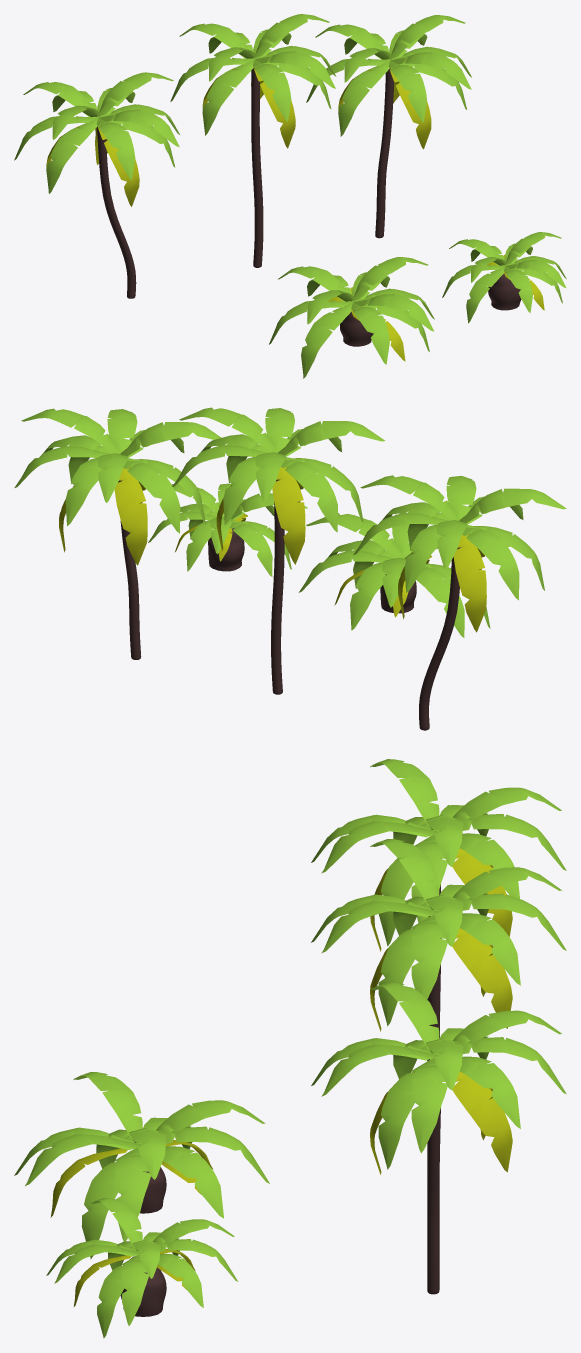
The model's file is palms_cartoon_low_poly.glb.
3 views of the same model, one above another, from view 1: azimuth 30°, elevation 25°; view 2: azimuth 150°, elevation 25°; view 3: azimuth 270°, elevation 25° (orthographic). The views are drawn at different scales.
Visible parts, largest first — view 1: Foglie.001, Foglie, Foglie.002, Foglie.003, Foglie.004, tronco, tronco.002, tronco.001, tronco.004, tronco.003; view 2: Foglie.001, Foglie, Foglie.002, Foglie.003, Foglie.004, tronco, tronco.001, tronco.002, tronco.004, tronco.003; view 3: Foglie.002, Foglie, Foglie.003, Foglie.001, Foglie.004, tronco.002, tronco.004, tronco.003.
Part boxes in pixels (x1,y1,x2,y2): Foglie.001: [14, 72, 179, 206]; Foglie: [170, 14, 336, 148]; Foglie.002: [306, 15, 471, 149]; Foglie.003: [269, 257, 434, 378]; Foglie.004: [442, 232, 566, 323]; tronco: [251, 67, 263, 267]; tronco.002: [375, 68, 394, 238]; tronco.001: [97, 126, 136, 298]; tronco.004: [488, 272, 521, 310]; tronco.003: [340, 310, 373, 346]; Foglie.001: [353, 475, 566, 632]; Foglie: [172, 407, 385, 564]; Foglie.002: [14, 408, 221, 565]; Foglie.003: [298, 513, 510, 637]; Foglie.004: [148, 483, 307, 576]; tronco: [271, 479, 284, 694]; tronco.001: [419, 547, 460, 730]; tronco.002: [118, 480, 141, 659]; tronco.004: [208, 528, 244, 571]; tronco.003: [380, 574, 416, 613]; Foglie.002: [311, 982, 566, 1174]; Foglie: [311, 839, 566, 1031]; Foglie.003: [14, 1072, 269, 1259]; Foglie.001: [311, 759, 566, 951]; Foglie.004: [46, 1198, 238, 1338]; tronco.002: [427, 1082, 441, 1294]; tronco.004: [120, 1256, 166, 1316]; tronco.003: [121, 1167, 166, 1213].
Size of the model in its own units: 842 by 449 by 639.
